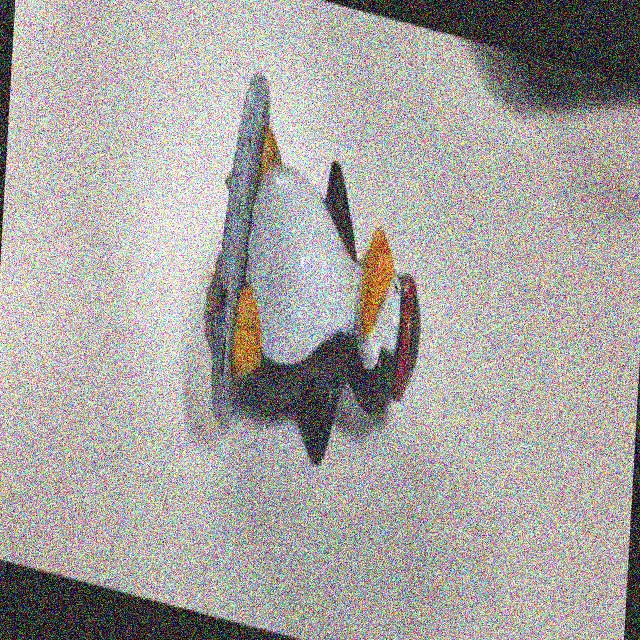Penguin: (189, 43, 443, 501)
